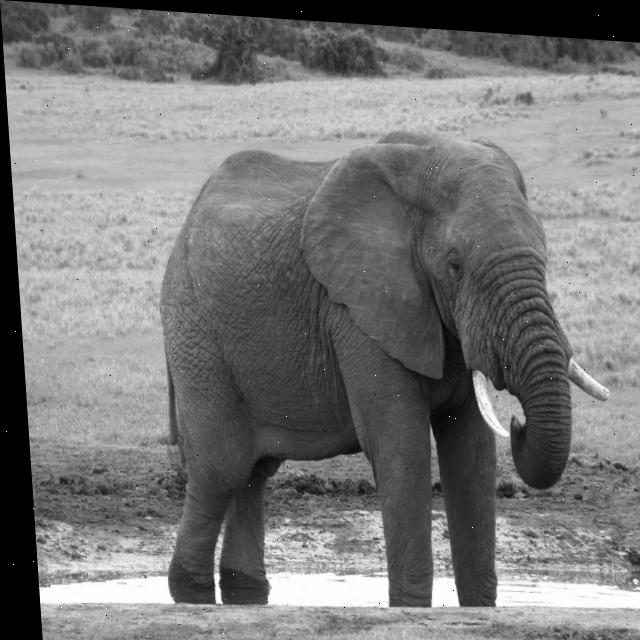Elephant: (137, 112, 625, 625)
